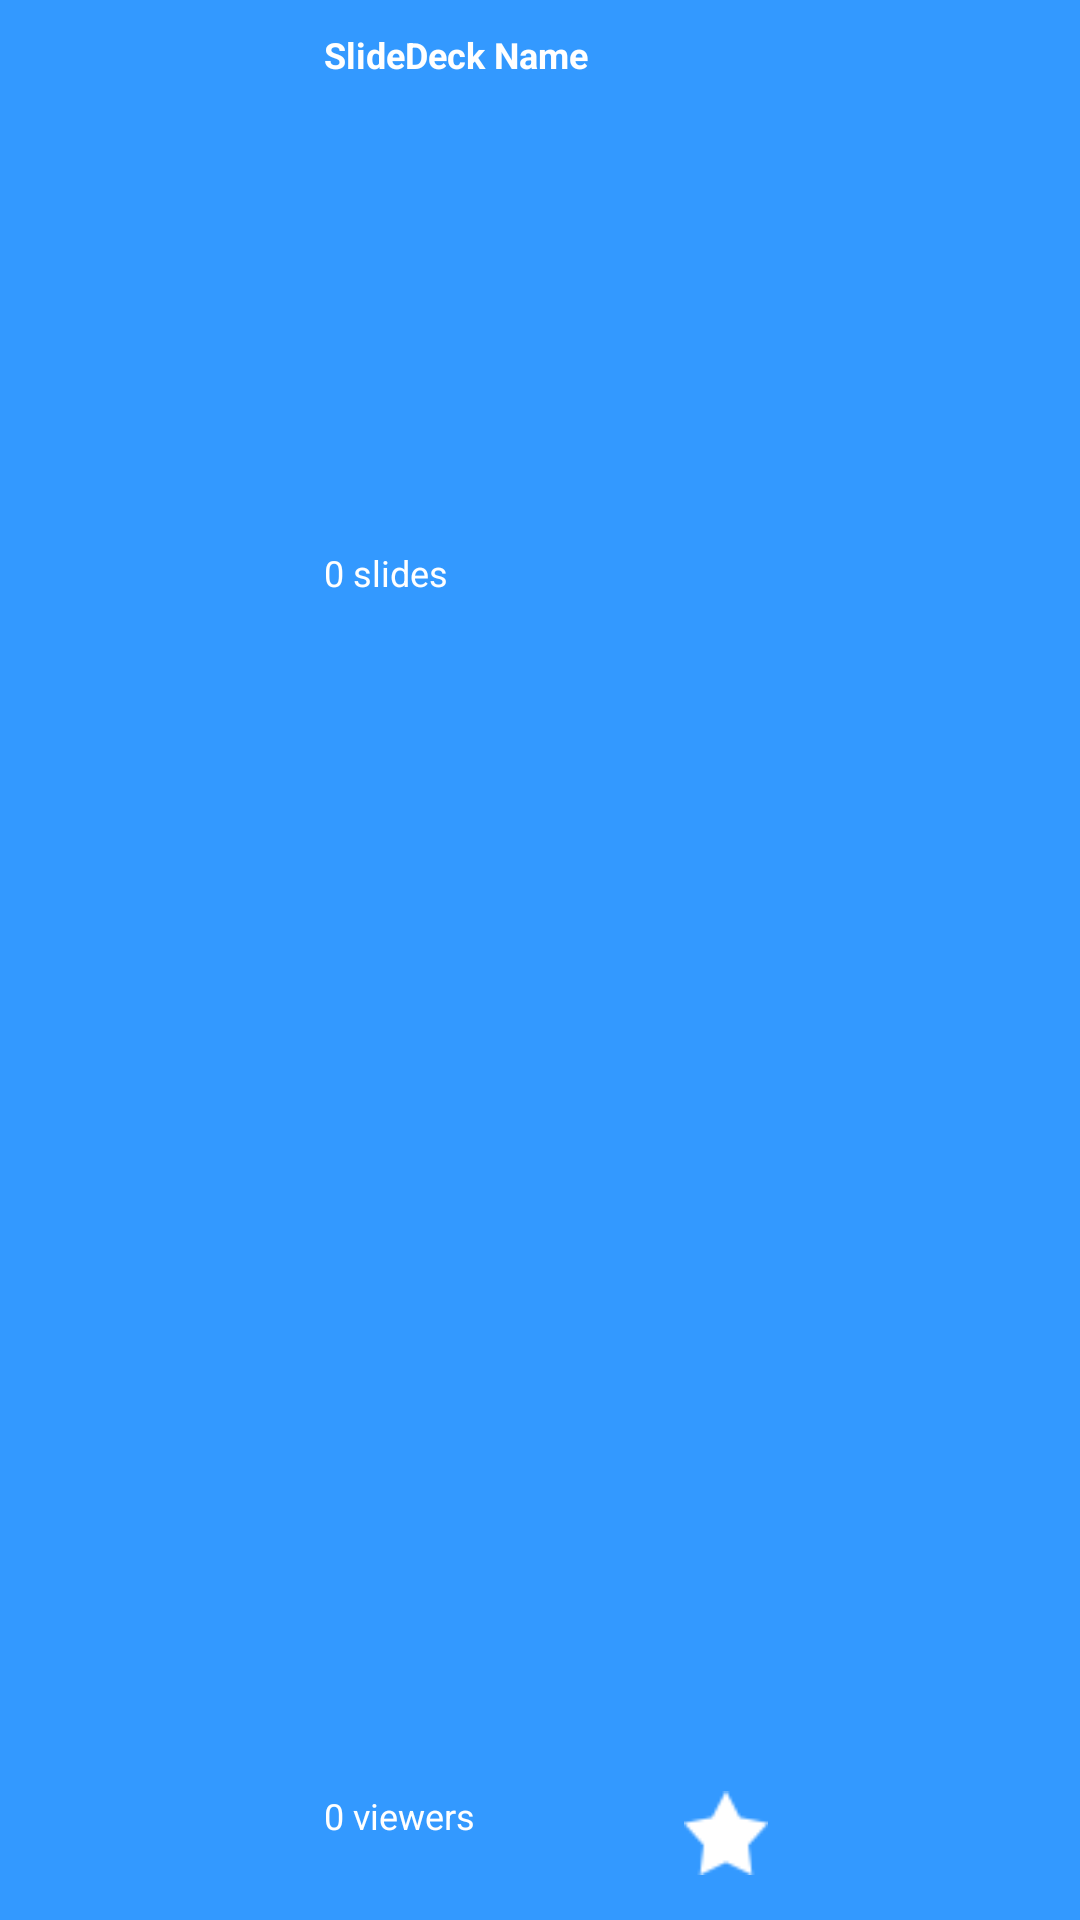

Icon bounding boxes for this 1080w x 1920h phone screenshot, format (x1, y1, x2, y2):
fav: (684, 1791, 768, 1875)
